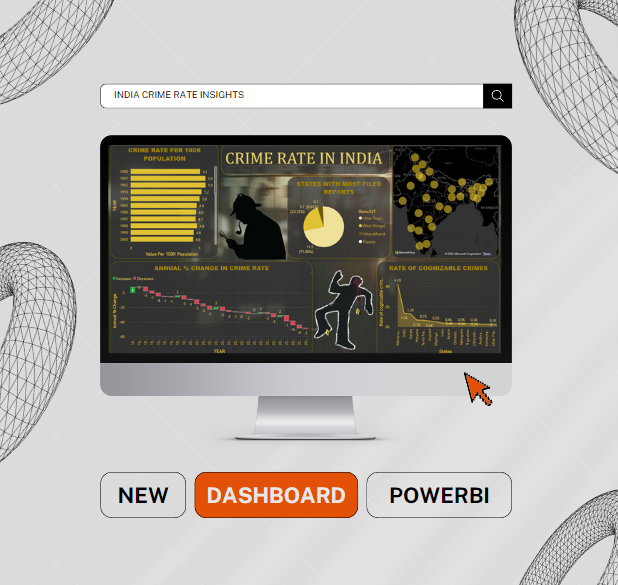

Layout of this report page (visuals, bound fields, positions):
{"tool":"powerbi","page":{"name":"INDIA CRIME TREND","canvas":[1280,720],"ordinal":0},"visuals":[{"type":"barChart","title":"CRIME RATE PER 100K POPULATION","fields":{"Category":["yearly analysis.date.Variation.Date Hierarchy.Year"],"Y":["Avg(yearly analysis. Per 100K Population)"]},"box":[9.6,13.3,348.5,372.7],"z":0},{"type":"waterfallChart","title":"ANNUAL % CHANGE IN CRIME RATE","fields":{"Category":["yearly analysis.date.Variation.Date Hierarchy.Year"],"Y":["Sum(yearly analysis. Annual % Change)"]},"box":[9.6,394.4,652.5,313.6],"z":1000},{"type":"image","box":[601.8,385.9,302.7,334.1],"z":2000},{"type":"textbox","box":[367.8,15.7,545.1,97.7],"z":3000},{"type":"areaChart","title":"RATE OF COGNIZABLE CRIMES","fields":{"Category":["en.State/UT"],"Y":["Sum(en.Rate of cognizable crimes)"]},"box":[870.8,394.4,396.8,313.6],"z":4000},{"type":"map","title":"CRIME RATE PER 100K POPULATION","fields":{"Size":["Avg(yearly analysis. Per 100K Population)"],"Category":["en.State/UT"]},"box":[919,14.5,348.5,372.7],"z":5000},{"type":"pieChart","title":"STATES WITH MOST FILED REPORTS","fields":{"Y":["Sum(en.Percentage share of state/UT (2018))"],"Category":["en.State/UT"]},"box":[581.3,121.8,331.7,262.9],"z":6000},{"type":"image","box":[358.2,170.1,223.1,224.3],"z":7000}]}

Visuals, with their boxes on the page's 1280x720 design canvas (x1, y1, x2, y2). These are canvas units, not pixel positions in the 618x585 screenshot, which may show the page scaled, cropped or inside an application window:
"CRIME RATE PER 100K POPULATION" barChart: x1=10, y1=13, x2=358, y2=386
"ANNUAL % CHANGE IN CRIME RATE" waterfallChart: x1=10, y1=394, x2=662, y2=708
image: x1=602, y1=386, x2=904, y2=720
textbox: x1=368, y1=16, x2=913, y2=113
"RATE OF COGNIZABLE CRIMES" areaChart: x1=871, y1=394, x2=1268, y2=708
"CRIME RATE PER 100K POPULATION" map: x1=919, y1=14, x2=1268, y2=387
"STATES WITH MOST FILED REPORTS" pieChart: x1=581, y1=122, x2=913, y2=385
image: x1=358, y1=170, x2=581, y2=394
